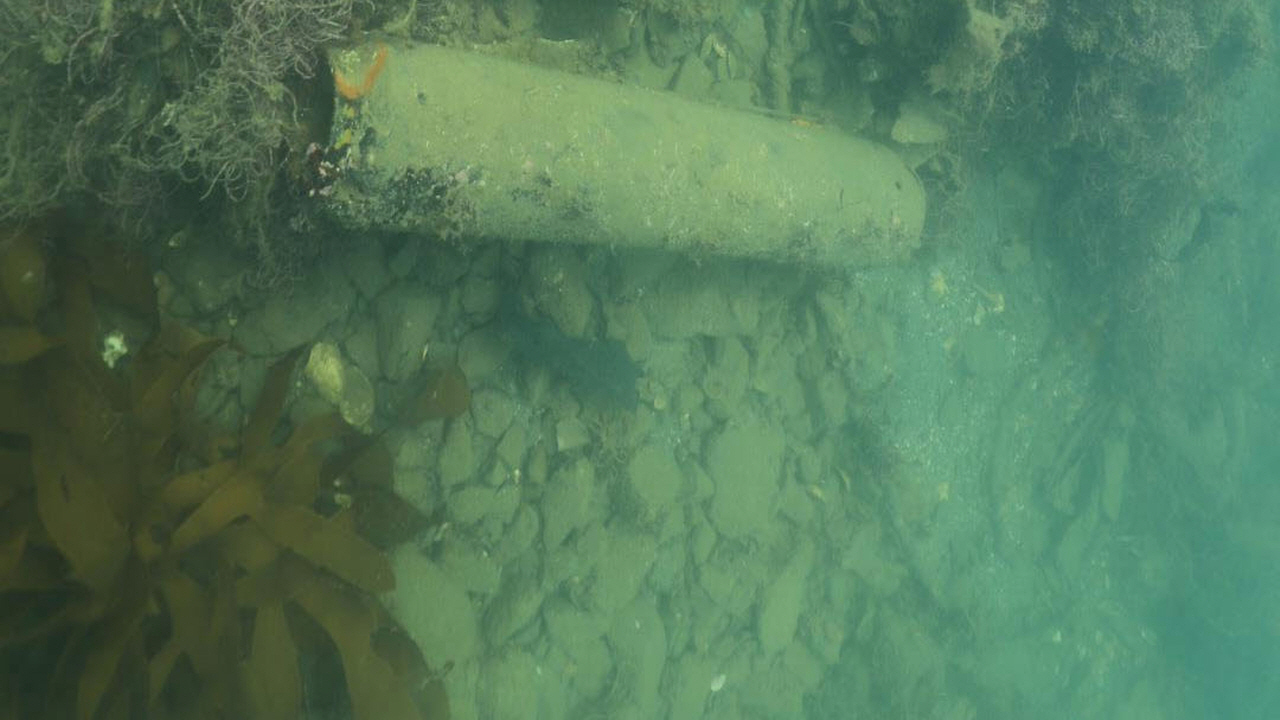eel fish trap: (308, 42, 929, 271)
